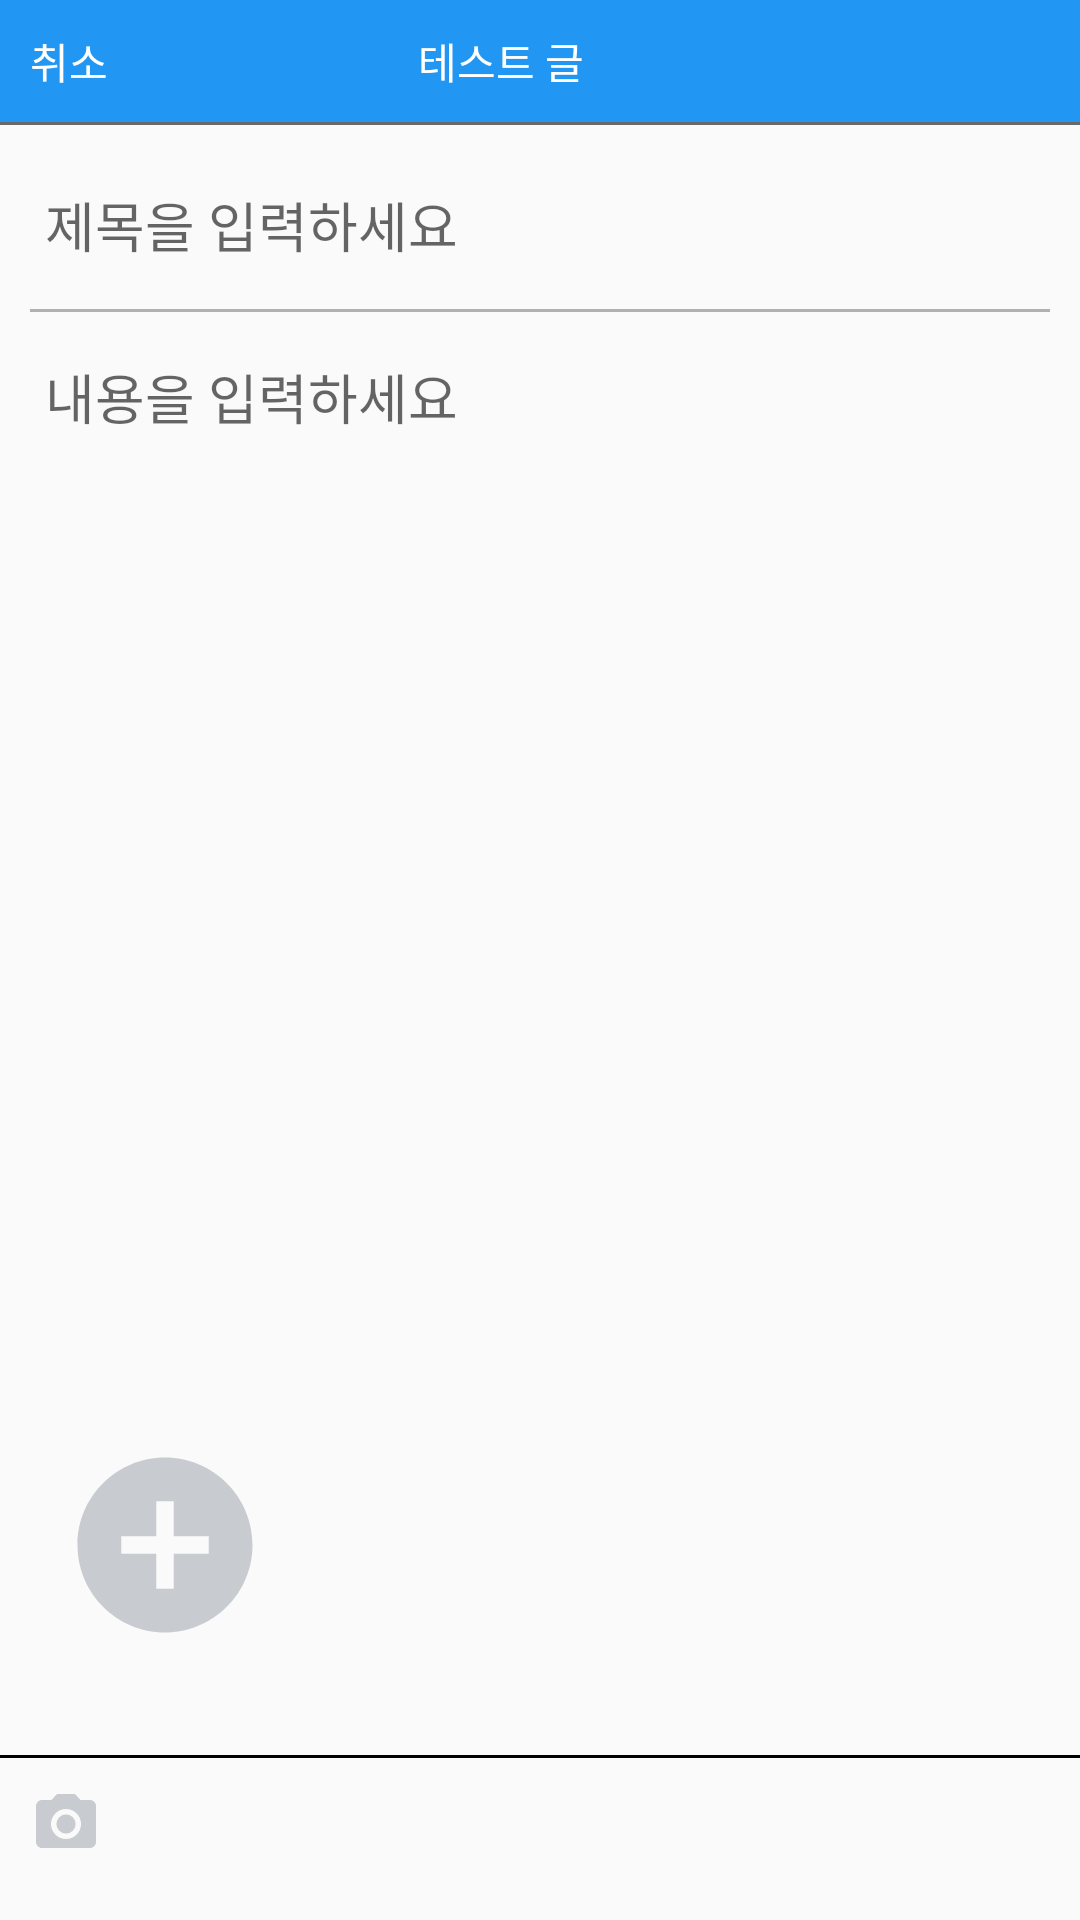

Named icons in this screenshot (1080x1920) and their centers, [x,y]:
add circle: [165,1545]
photo camera: [66,1821]
